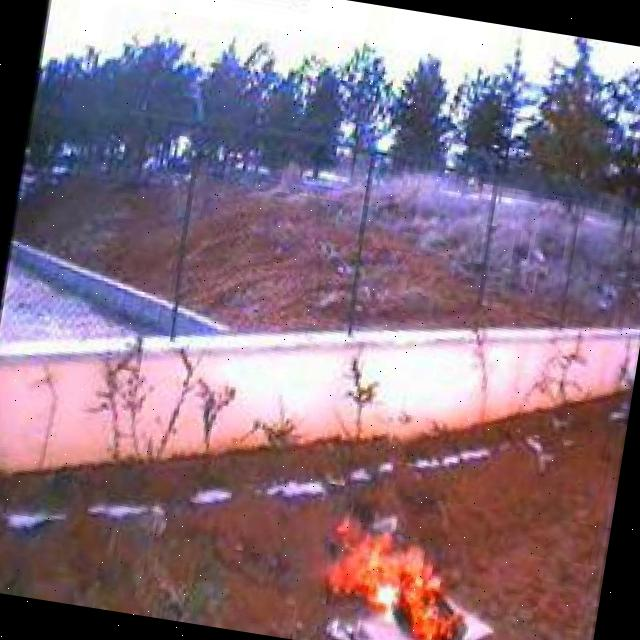fire: (317, 514, 480, 640)
